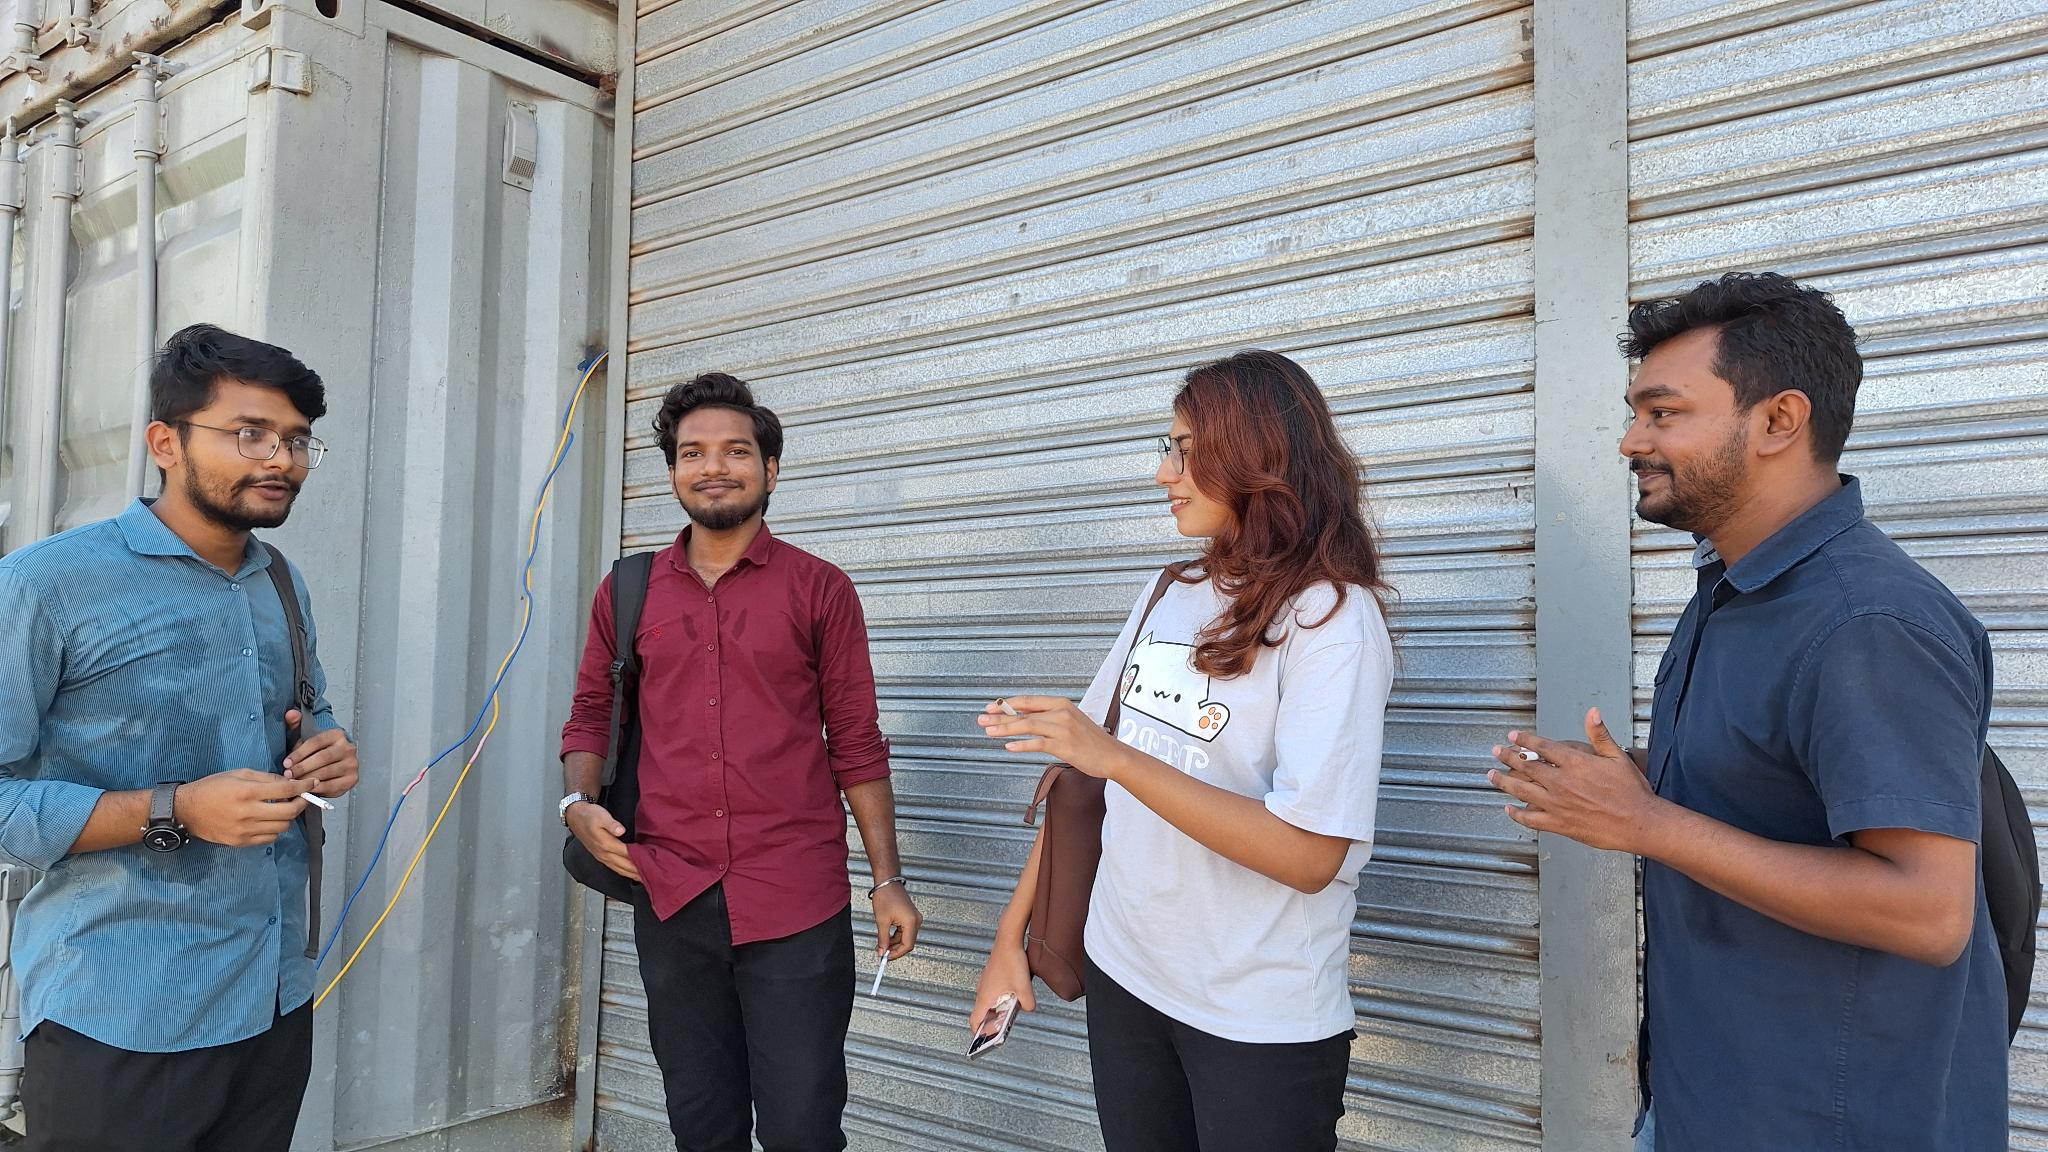cigarette: (869, 948, 890, 1000), (297, 791, 338, 812), (993, 695, 1020, 719), (1515, 750, 1544, 765)
smoker: (1485, 274, 2040, 1152), (965, 347, 1398, 1152), (0, 322, 360, 1152), (557, 371, 923, 1152)
